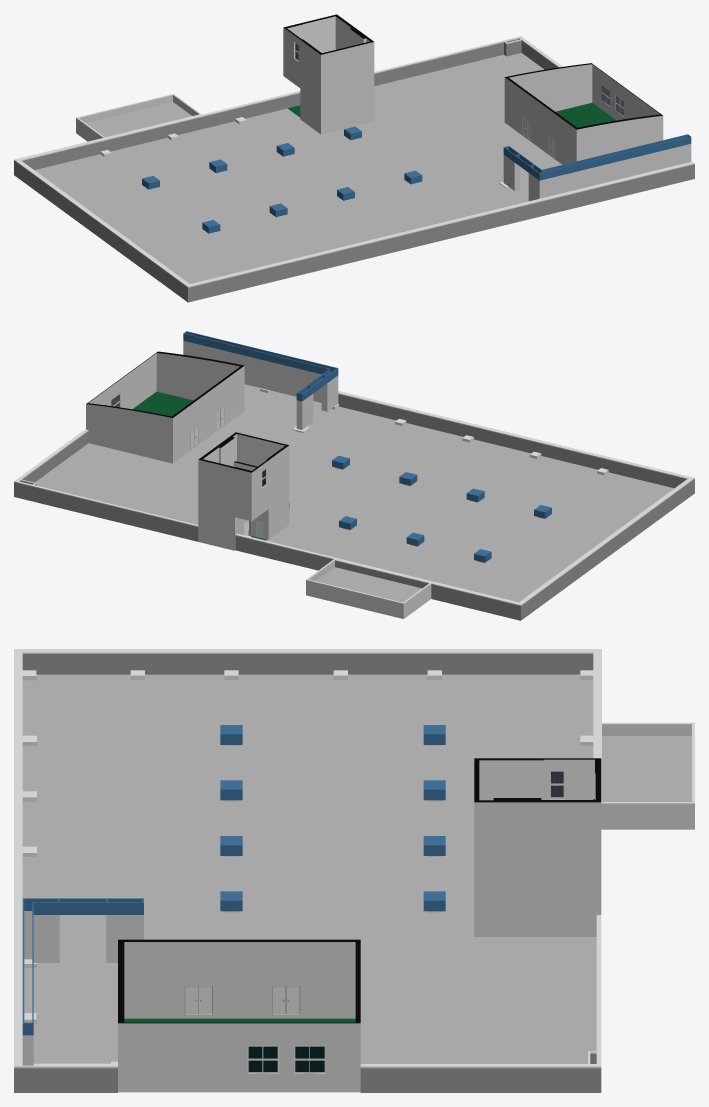
The model's file is soulbrain_T2-12 B-4F.glb.
The picture shows the model from 3 angles, top to bottom: view 1: azimuth 30°, elevation 25°; view 2: azimuth 150°, elevation 25°; view 3: azimuth 270°, elevation 25°; orthographic projection. The views are drawn at different scales.
Parts seen in each view (by area): view 1: T2-12-B-RF_Floor, T2-12-B-RF_Wall, T2-12-B-RF_Exterior; view 2: T2-12-B-RF_Floor, T2-12-B-RF_Wall, T2-12-B-RF_Exterior, T2-12-B-RF_Door; view 3: T2-12-B-RF_Floor, T2-12-B-RF_Wall, T2-12-B-RF_Exterior, T2-12-B-RF_Window, T2-12-B-RF_Door.
Part boxes in pixels (x1,y1,x2,y2): T2-12-B-RF_Floor: [34, 53, 616, 283]; T2-12-B-RF_Wall: [14, 14, 694, 302]; T2-12-B-RF_Exterior: [503, 134, 691, 201]; T2-12-B-RF_Floor: [35, 384, 673, 602]; T2-12-B-RF_Wall: [14, 351, 694, 620]; T2-12-B-RF_Exterior: [183, 331, 338, 429]; T2-12-B-RF_Door: [190, 406, 263, 538]; T2-12-B-RF_Floor: [22, 674, 691, 1071]; T2-12-B-RF_Wall: [14, 649, 694, 1092]; T2-12-B-RF_Exterior: [22, 898, 143, 1065]; T2-12-B-RF_Window: [247, 771, 564, 1073]; T2-12-B-RF_Door: [184, 986, 300, 1015].
Size of the model in its own units: 63.23 by 9.8 by 43.57.
Materials: 13 (1 with a texture image).
